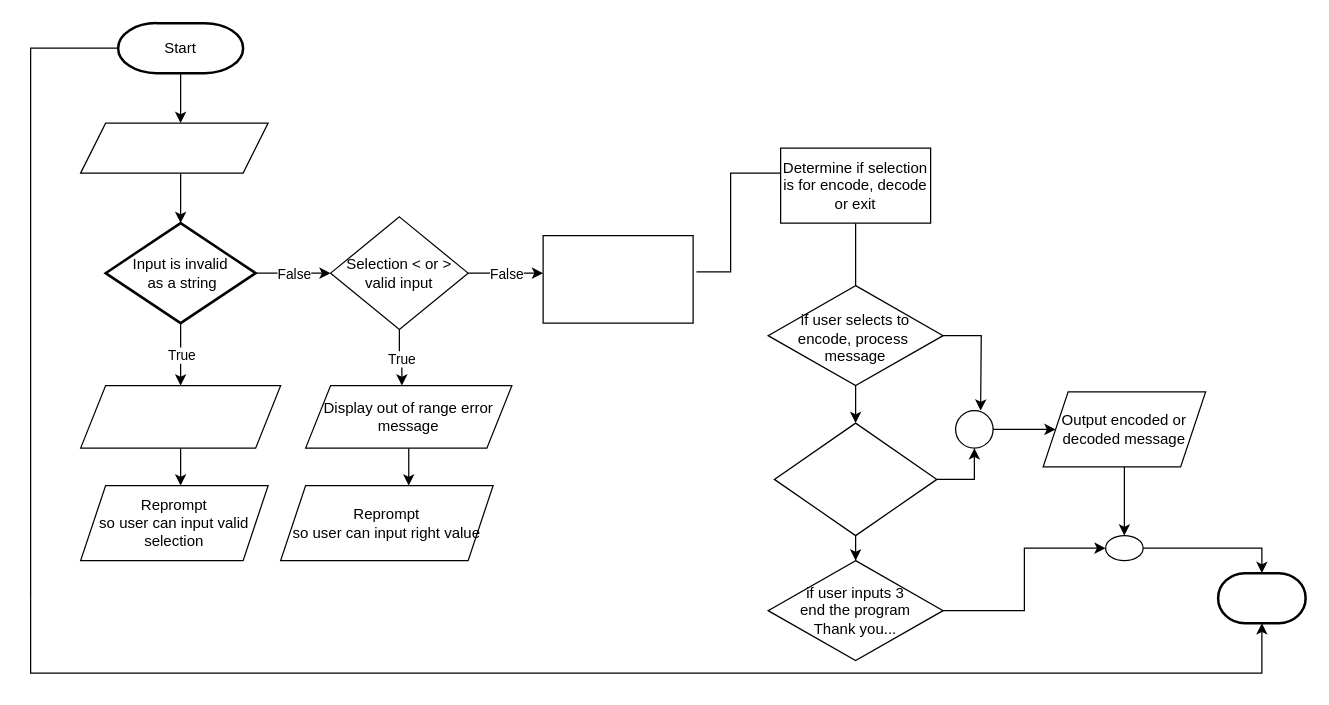
Image size: 1329x705. Some labels were removed from this diagram. Here are the shapes that lost their labels. From the top down, the centre of each, then its label:
At pixel 173 147: "Prompt user for valid Input 1,2 or 3".
At pixel 617 278: "Set as valid selction".
At pixel 180 416: "Display error message 'no string'".
At pixel 855 479: "if user slects to decode process message".
At pixel 1261 597: "End".
